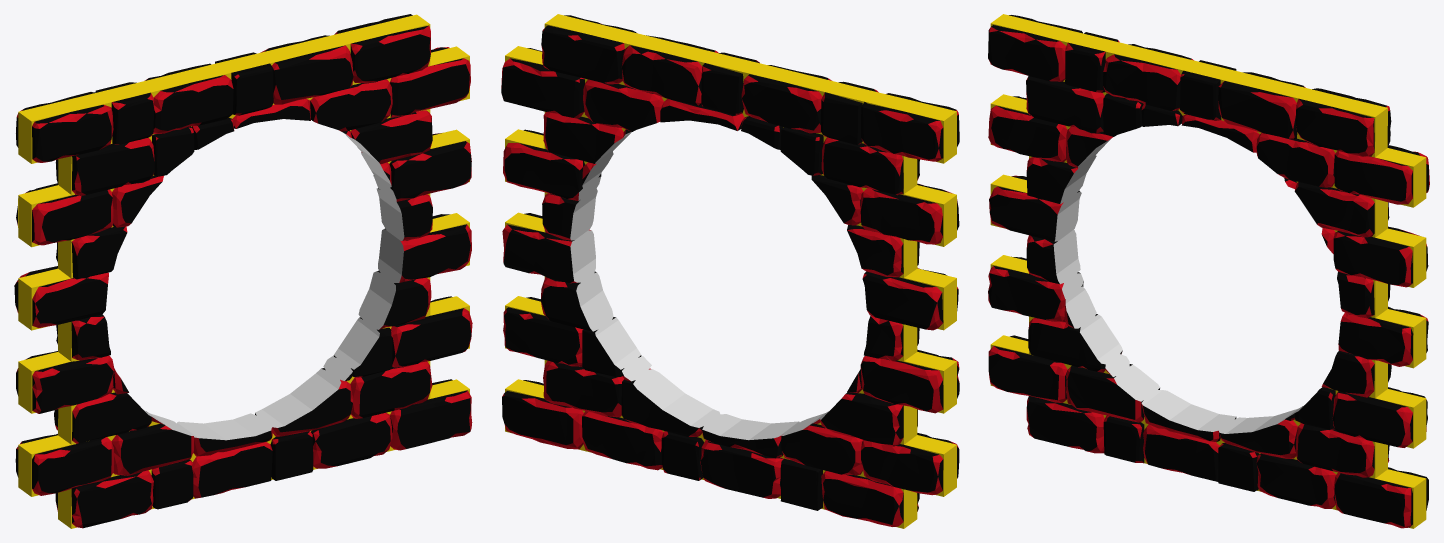
Rendered from DungeonWall_Hole_Round.fbx.
The picture shows the model from 3 angles, left to right: view 1: azimuth 30°, elevation 25°; view 2: azimuth 150°, elevation 25°; view 3: azimuth 330°, elevation 25°; orthographic projection. The views are drawn at different scales.
Parts seen in each view (by area): view 1: DungeonWall_Hole_Round; view 2: DungeonWall_Hole_Round; view 3: DungeonWall_Hole_Round.
Part boxes in pixels (x1=…): DungeonWall_Hole_Round: x1=14, y1=14, x2=472, y2=528; DungeonWall_Hole_Round: x1=501, y1=14, x2=959, y2=528; DungeonWall_Hole_Round: x1=988, y1=14, x2=1429, y2=528.
Size of the model in its own units: 441 by 44.53 by 401.
